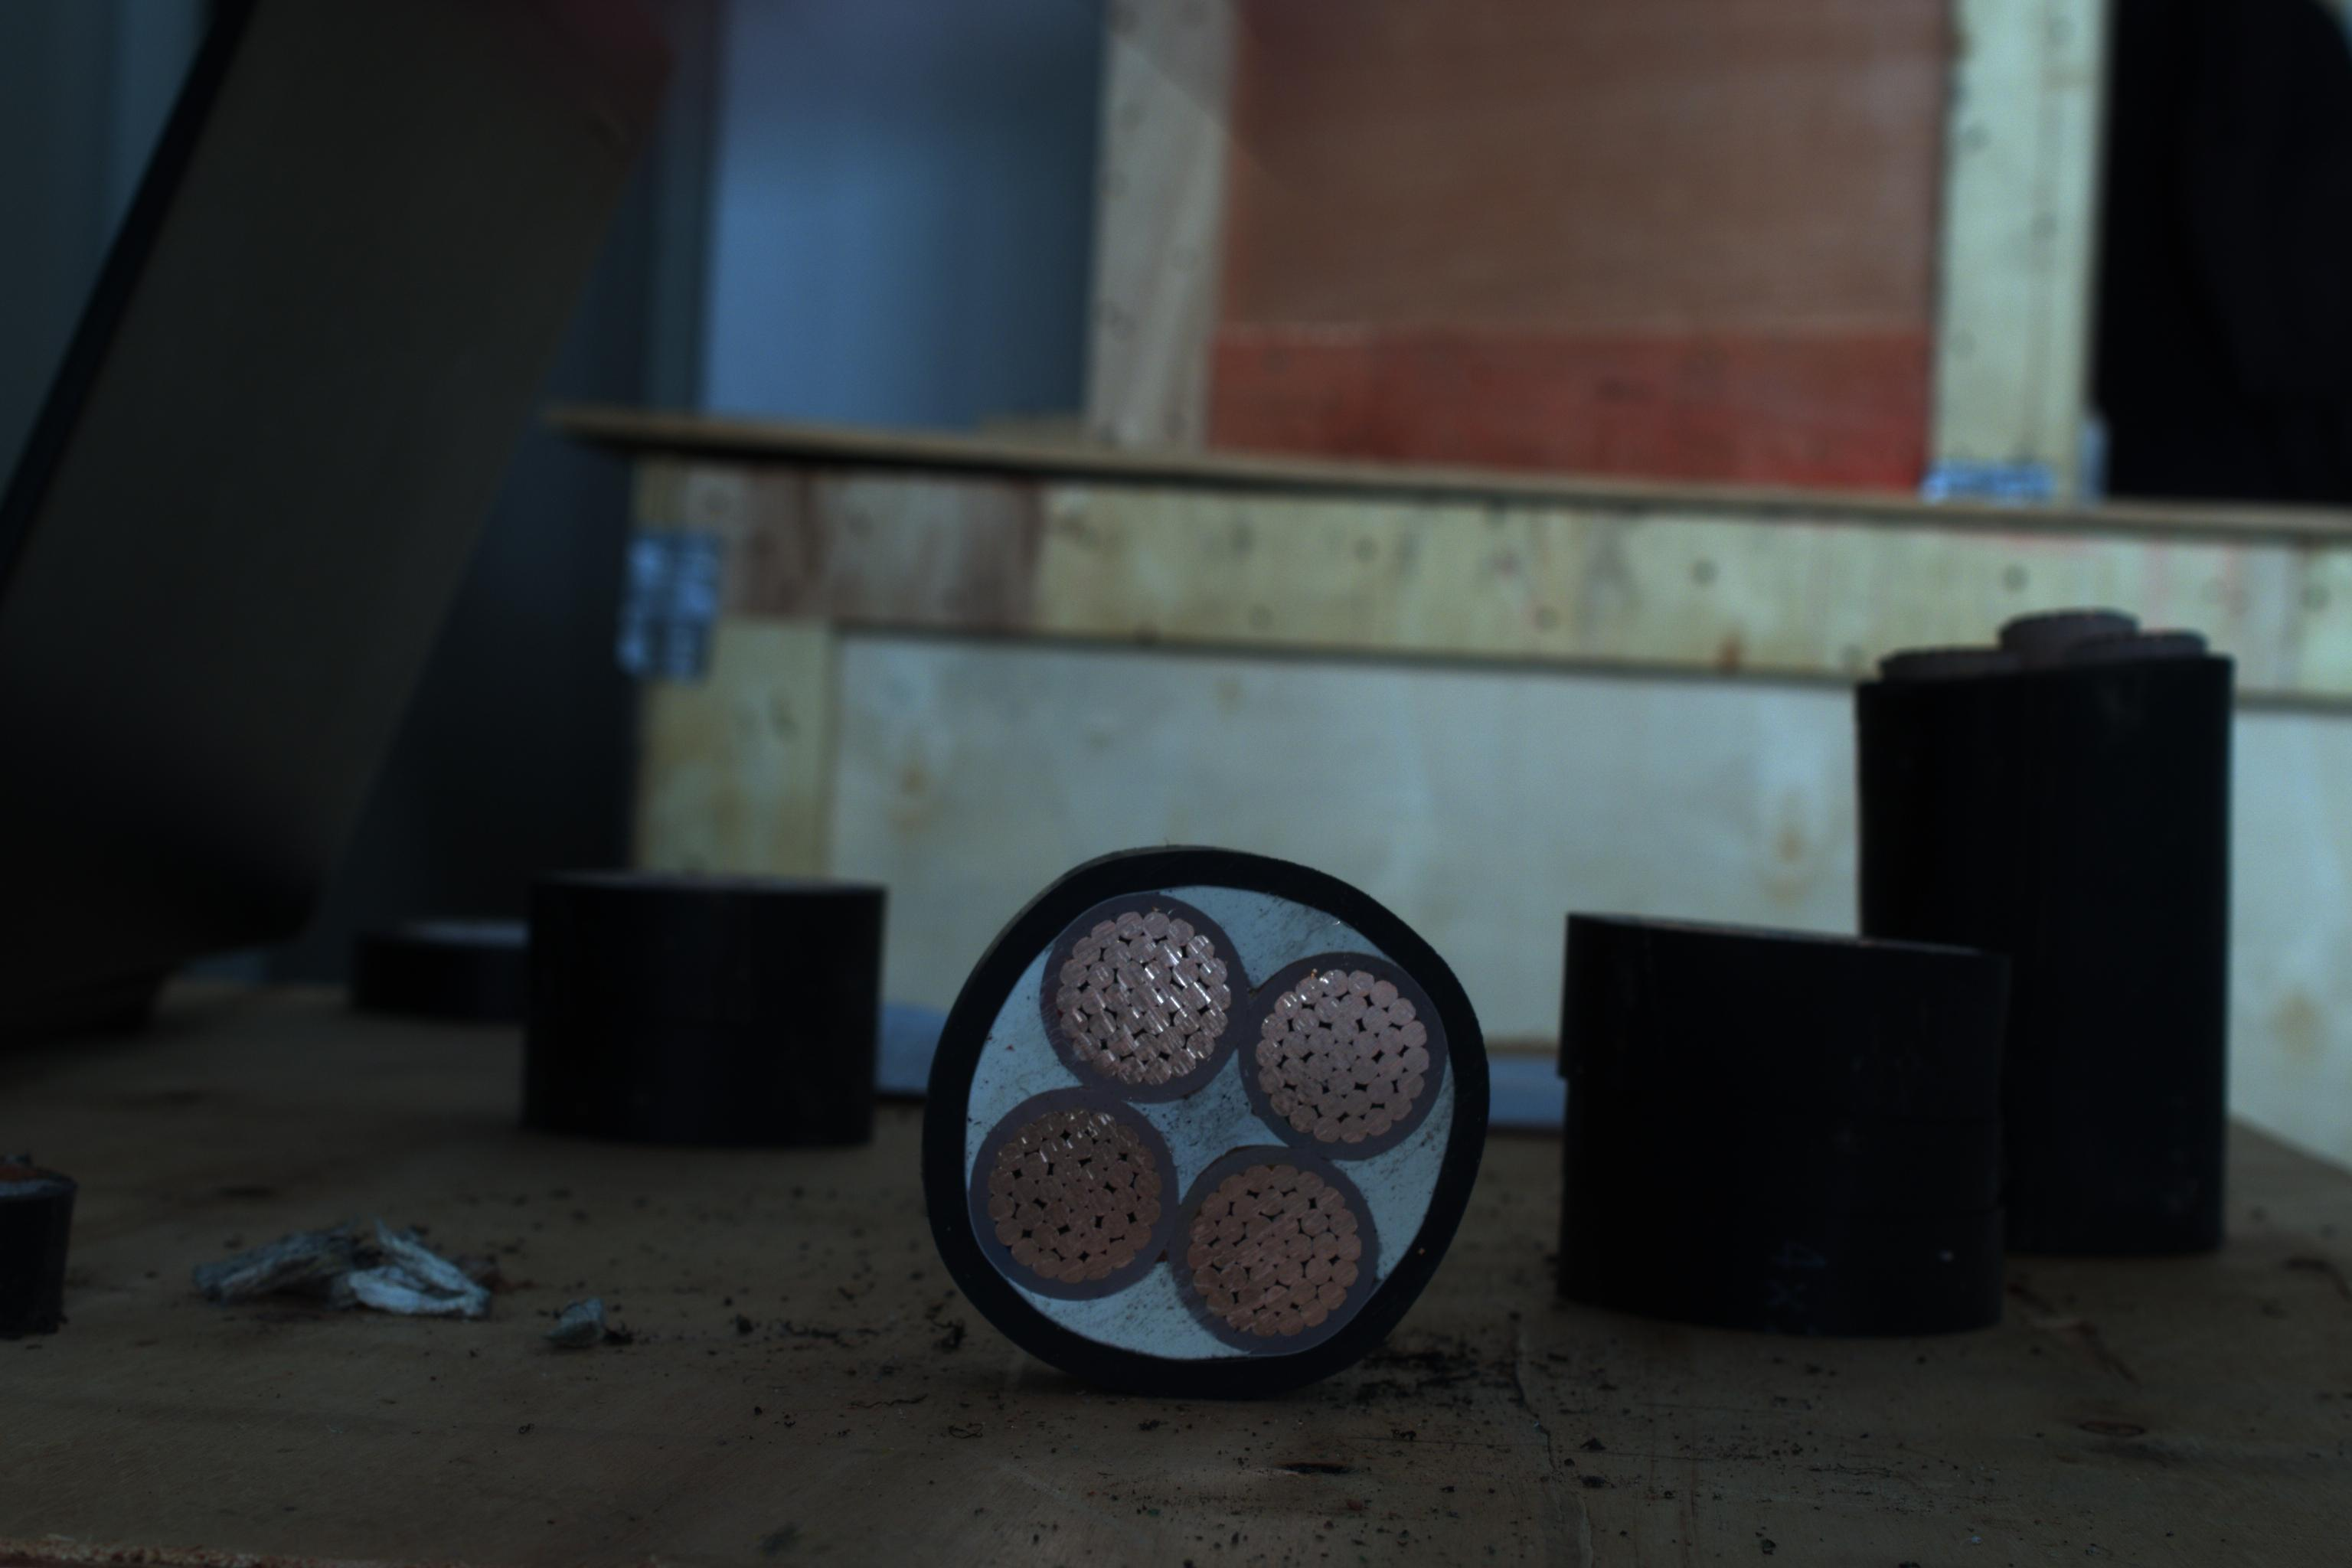YJV_0.6_1kV_4x240: (934, 845, 1470, 1395)
